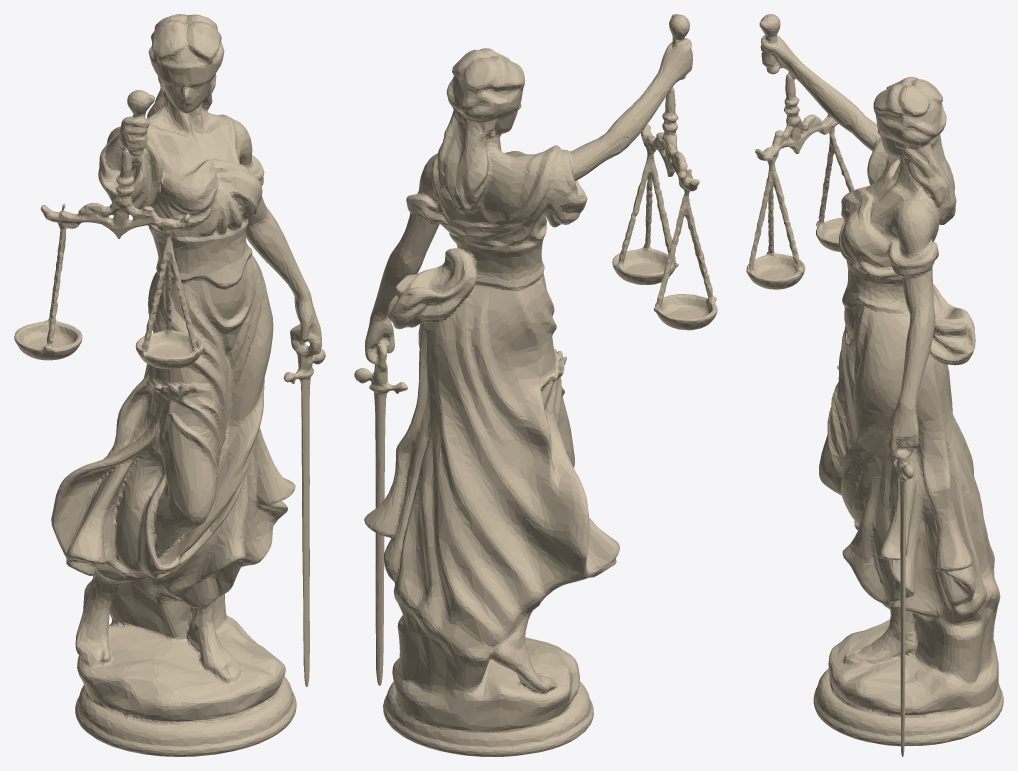
The model's file is balanza.glb.
3 views of the same model, side by side, from view 1: azimuth 30°, elevation 25°; view 2: azimuth 150°, elevation 25°; view 3: azimuth 270°, elevation 25° (orthographic). The views are drawn at different scales.
Visible parts, largest first — view 1: mesh_node; view 2: mesh_node; view 3: mesh_node.
Part boxes in pixels (x1=…): mesh_node: x1=14, y1=14, x2=325, y2=756; mesh_node: x1=354, y1=14, x2=717, y2=756; mesh_node: x1=746, y1=14, x2=1003, y2=756.
Size of the model in its own units: 0.5542 by 1.1 by 0.4037.
